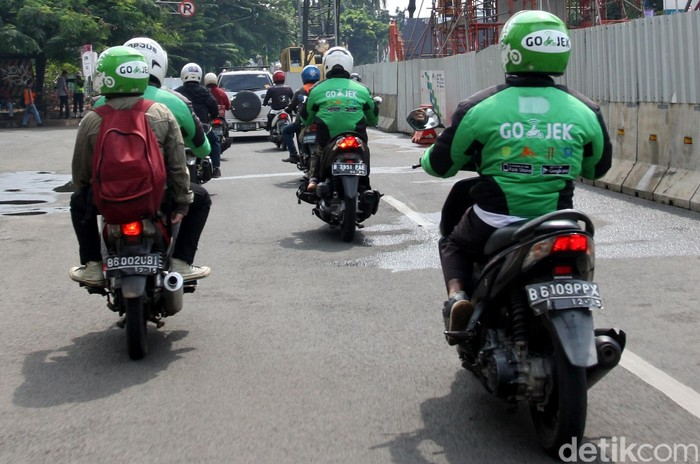plate: (524, 283, 602, 307), (105, 256, 158, 275), (333, 164, 366, 177)
